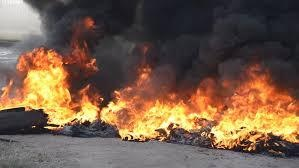fire: (7, 39, 299, 149)
